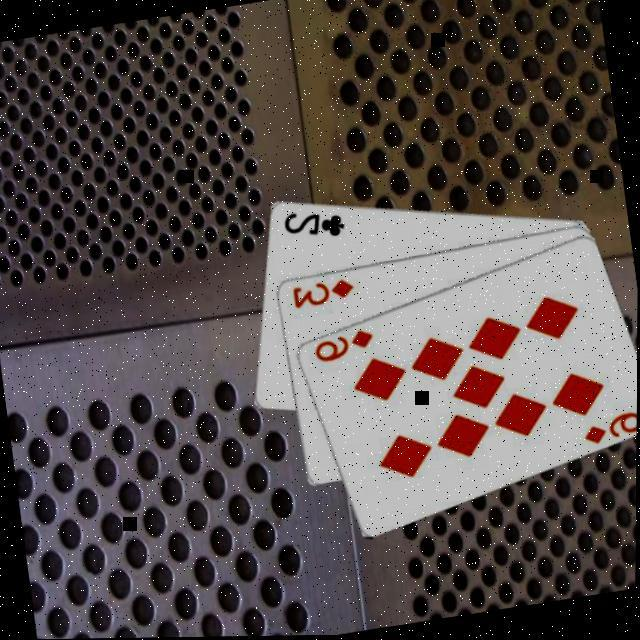2C: (280, 201, 350, 247)
3D: (291, 274, 360, 312)
9D: (312, 324, 381, 366), (580, 406, 638, 448)
